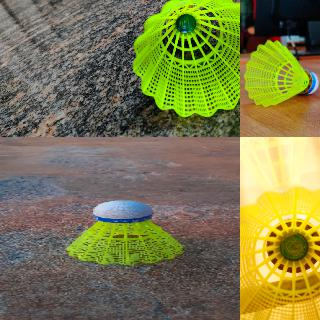shuttlecock: (132, 0, 239, 118), (240, 187, 319, 319), (65, 200, 183, 265), (244, 38, 318, 108)
